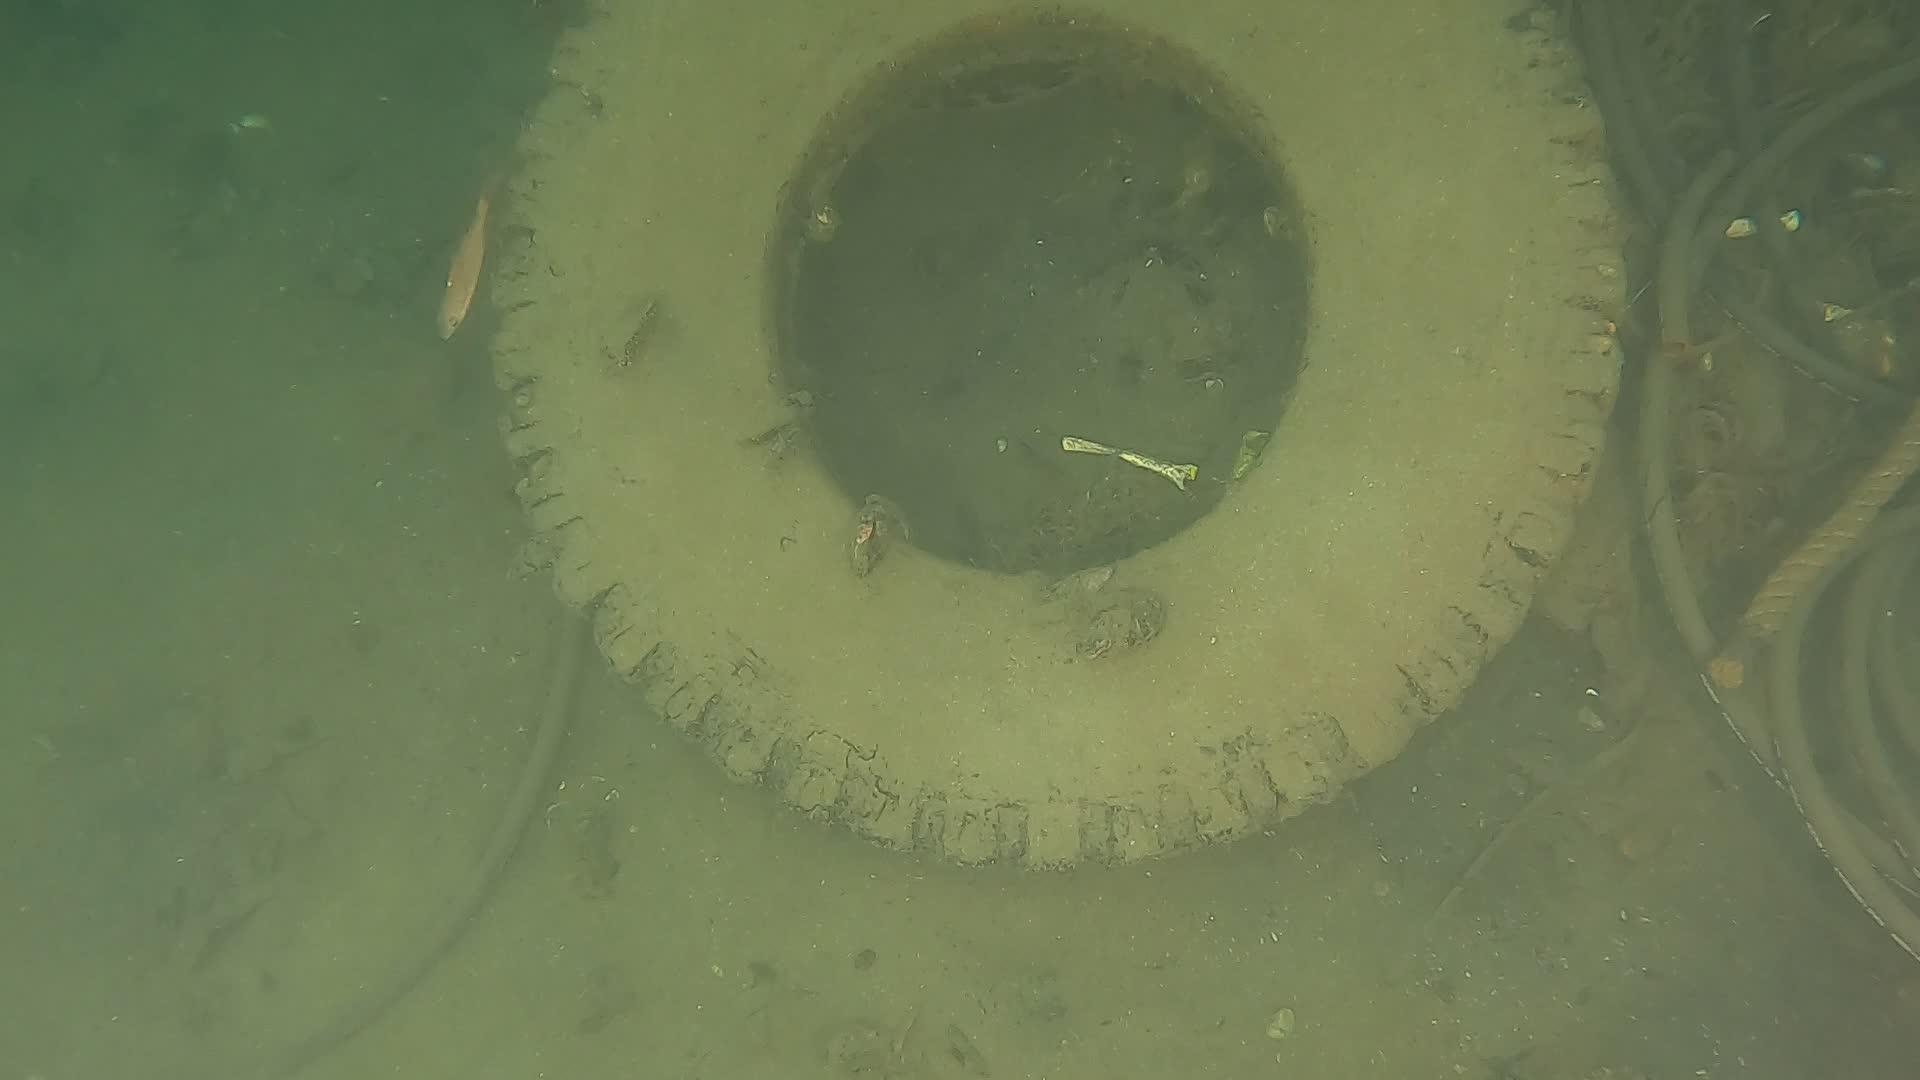rope: (1745, 413, 1919, 640)
tire: (487, 0, 1633, 872)
